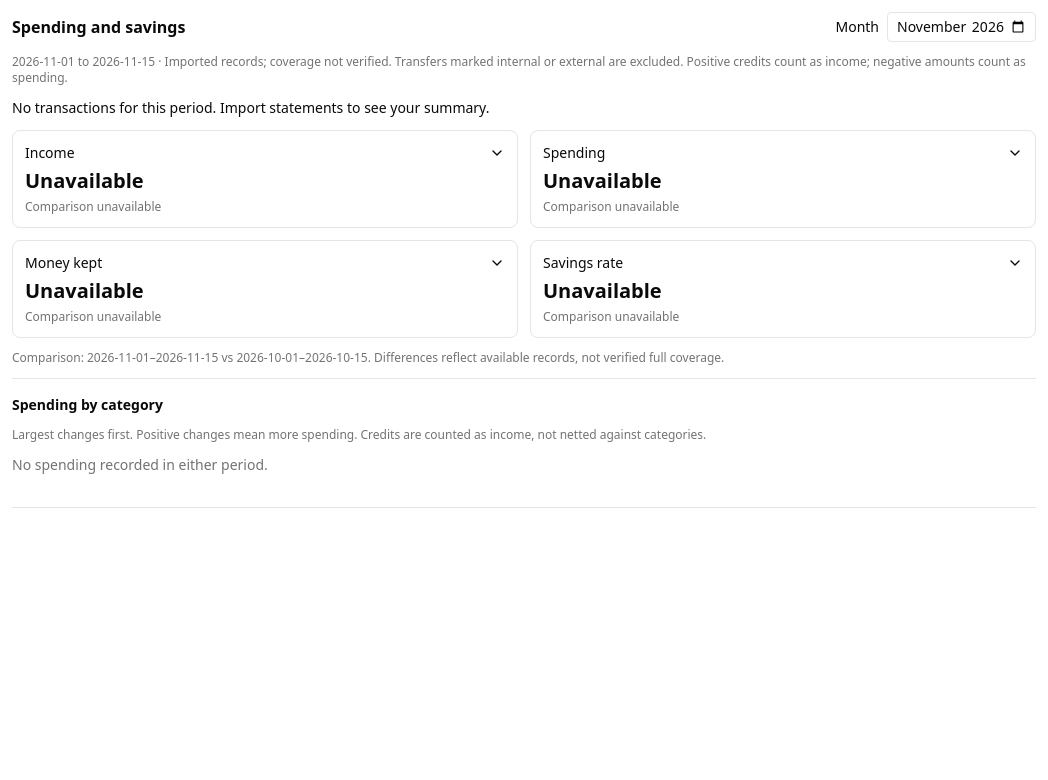
Scenario: shares the selected month with category spending and excludes transfers
This screenshot has width=1048, height=780.
Check: the button "Income Unavailable Comparison unavailable" is shown, box [13,131,517,227]
Replace the text in the field named "Summary month" with "2020-02". click: (962, 27)
box: [887,12,1036,42]
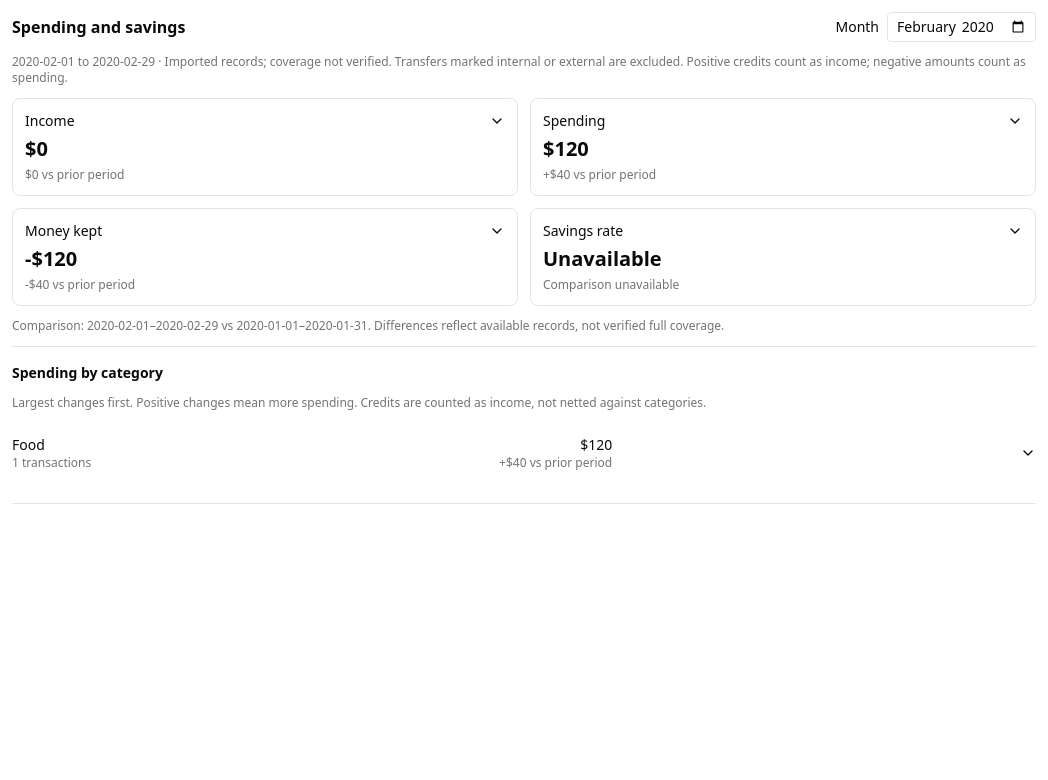
Check: the button "Food 1 transactions $120 +$40 vs prior period" is shown
Click the button "Food 1 transactions $120 +$40 vs prior period". click: (524, 453)
box: [12,423,1036,483]
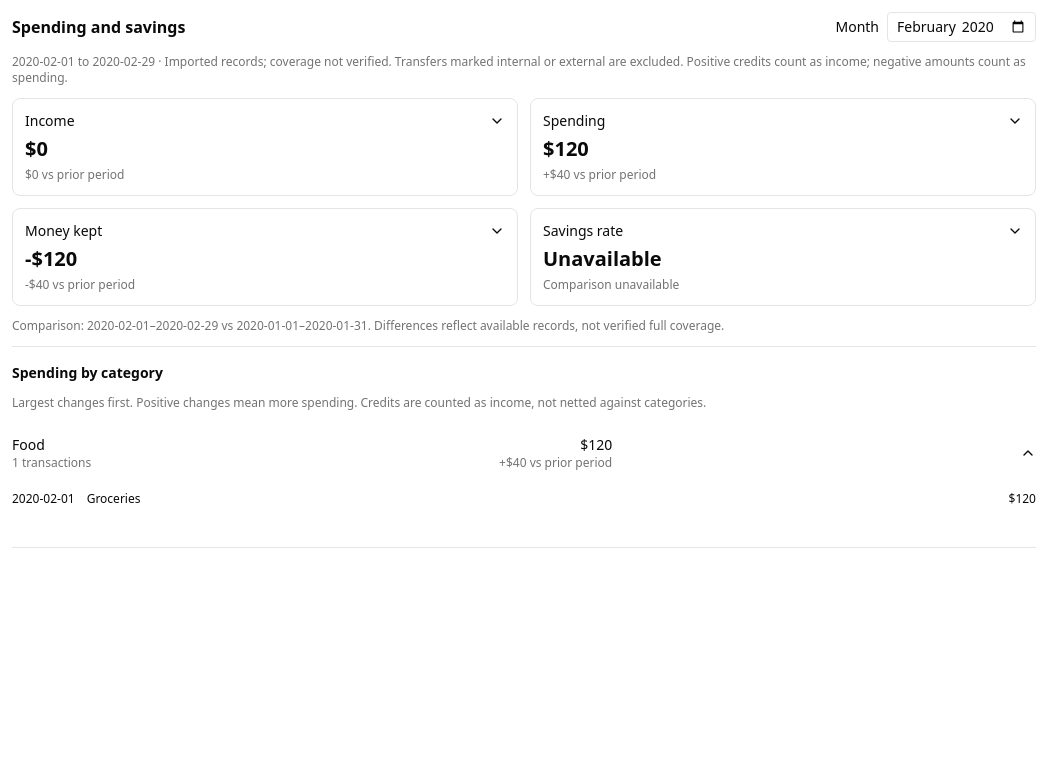
Check: the text "Groceries" is shown, box [87,490,140,507]
Replace the text in the field named "Summary month" with "2020-01". click: (962, 27)
box: [887,12,1036,42]
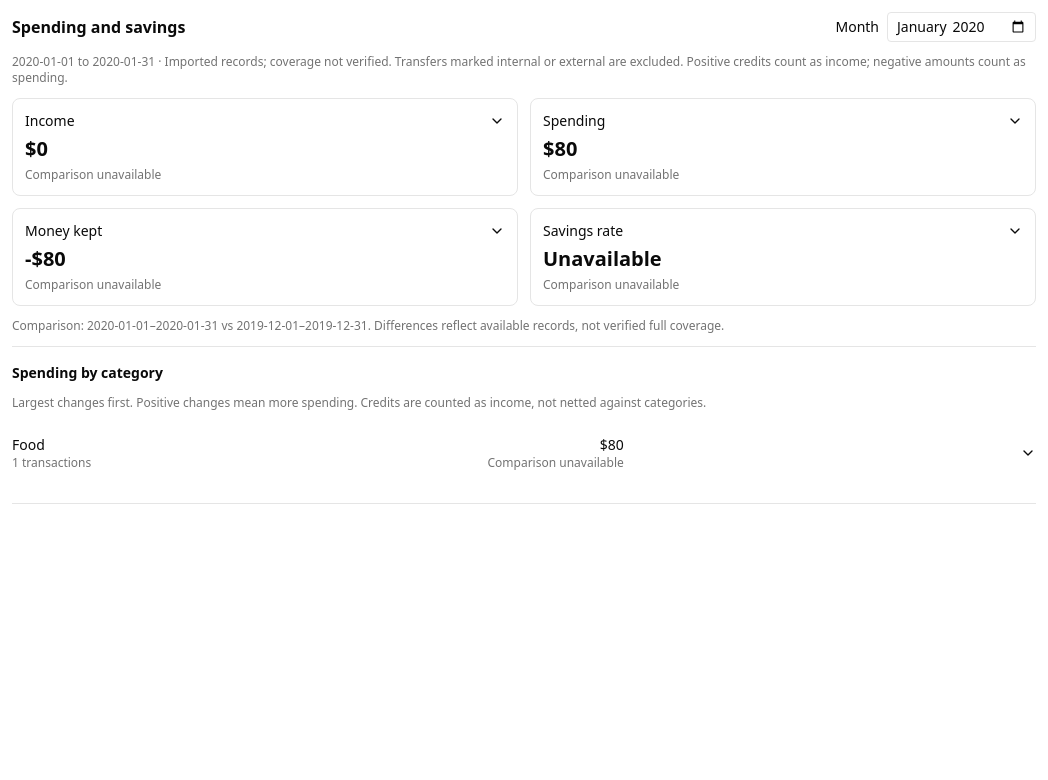
Check: the button "Food 1 transactions $80 Comparison unavailable" is shown, box [12,423,1036,483]
Check: the text "Groceries" is gone
